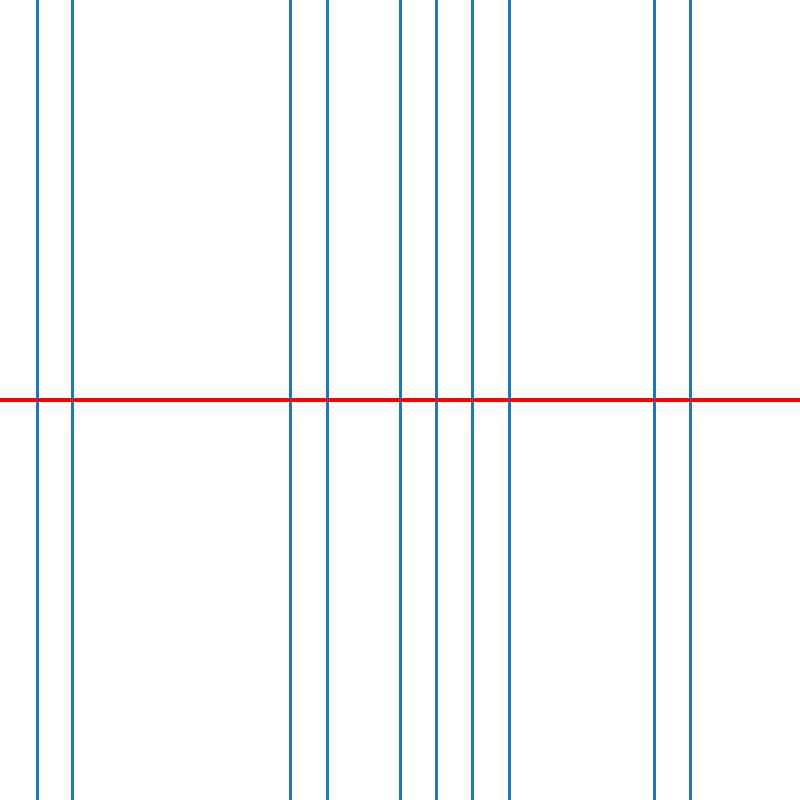root: (650, 396, 658, 404), (432, 396, 440, 404), (32, 396, 40, 404), (687, 396, 694, 404), (287, 396, 294, 404), (323, 396, 330, 404), (469, 396, 476, 404), (396, 396, 403, 404), (69, 396, 76, 404), (505, 396, 512, 404)
